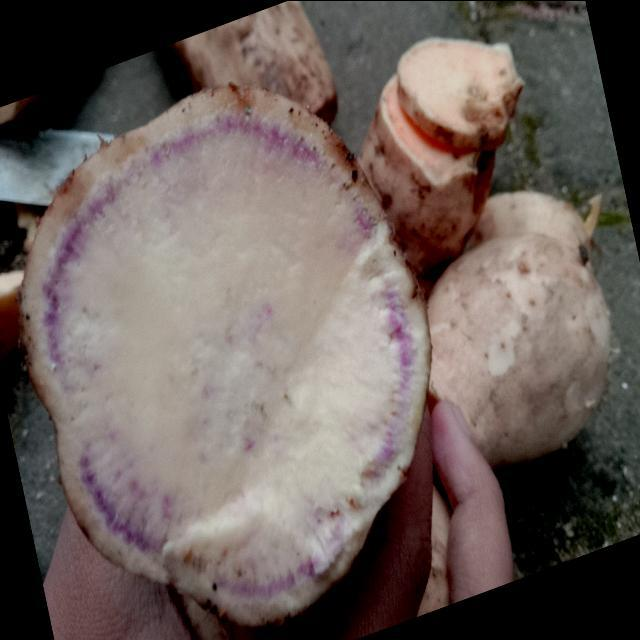Healthy Sweet Potato: (21, 87, 430, 625)
